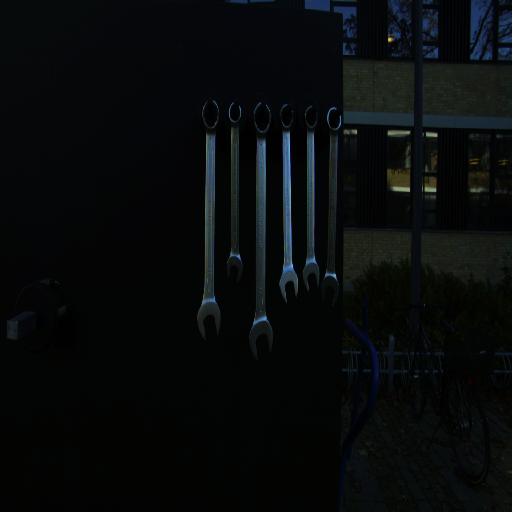bottom: (191, 304, 225, 341), (248, 322, 278, 361), (277, 272, 300, 304), (222, 254, 245, 283), (322, 270, 340, 307), (301, 264, 320, 294)
top: (251, 98, 274, 137), (197, 98, 222, 133), (301, 101, 321, 133), (323, 102, 343, 134), (277, 99, 296, 132), (227, 97, 244, 127)
